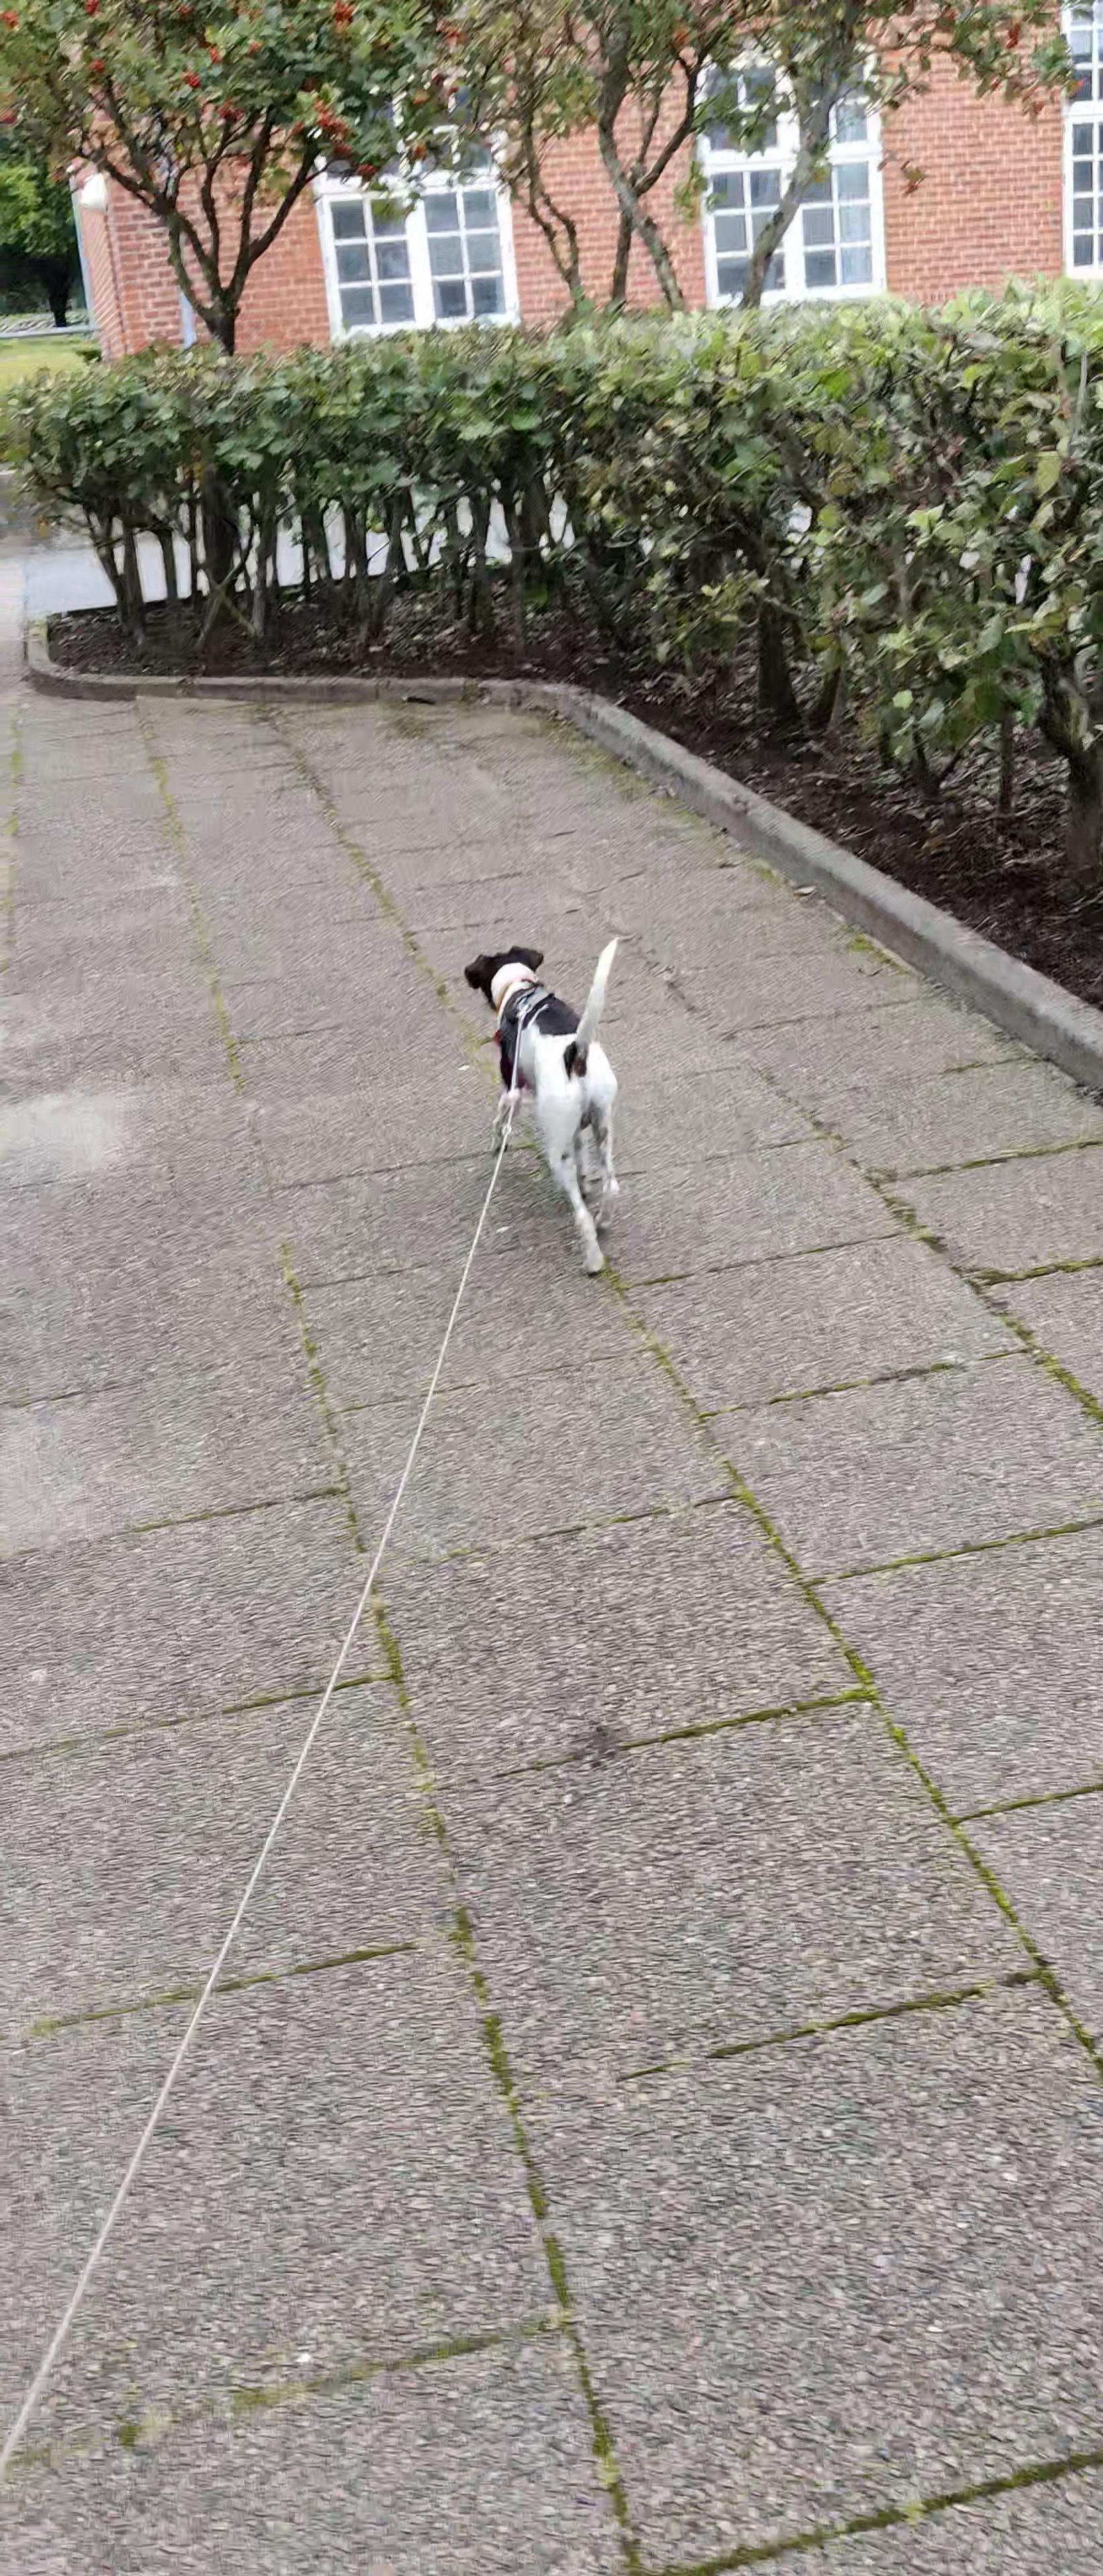Dog: (445, 913, 654, 1293)
